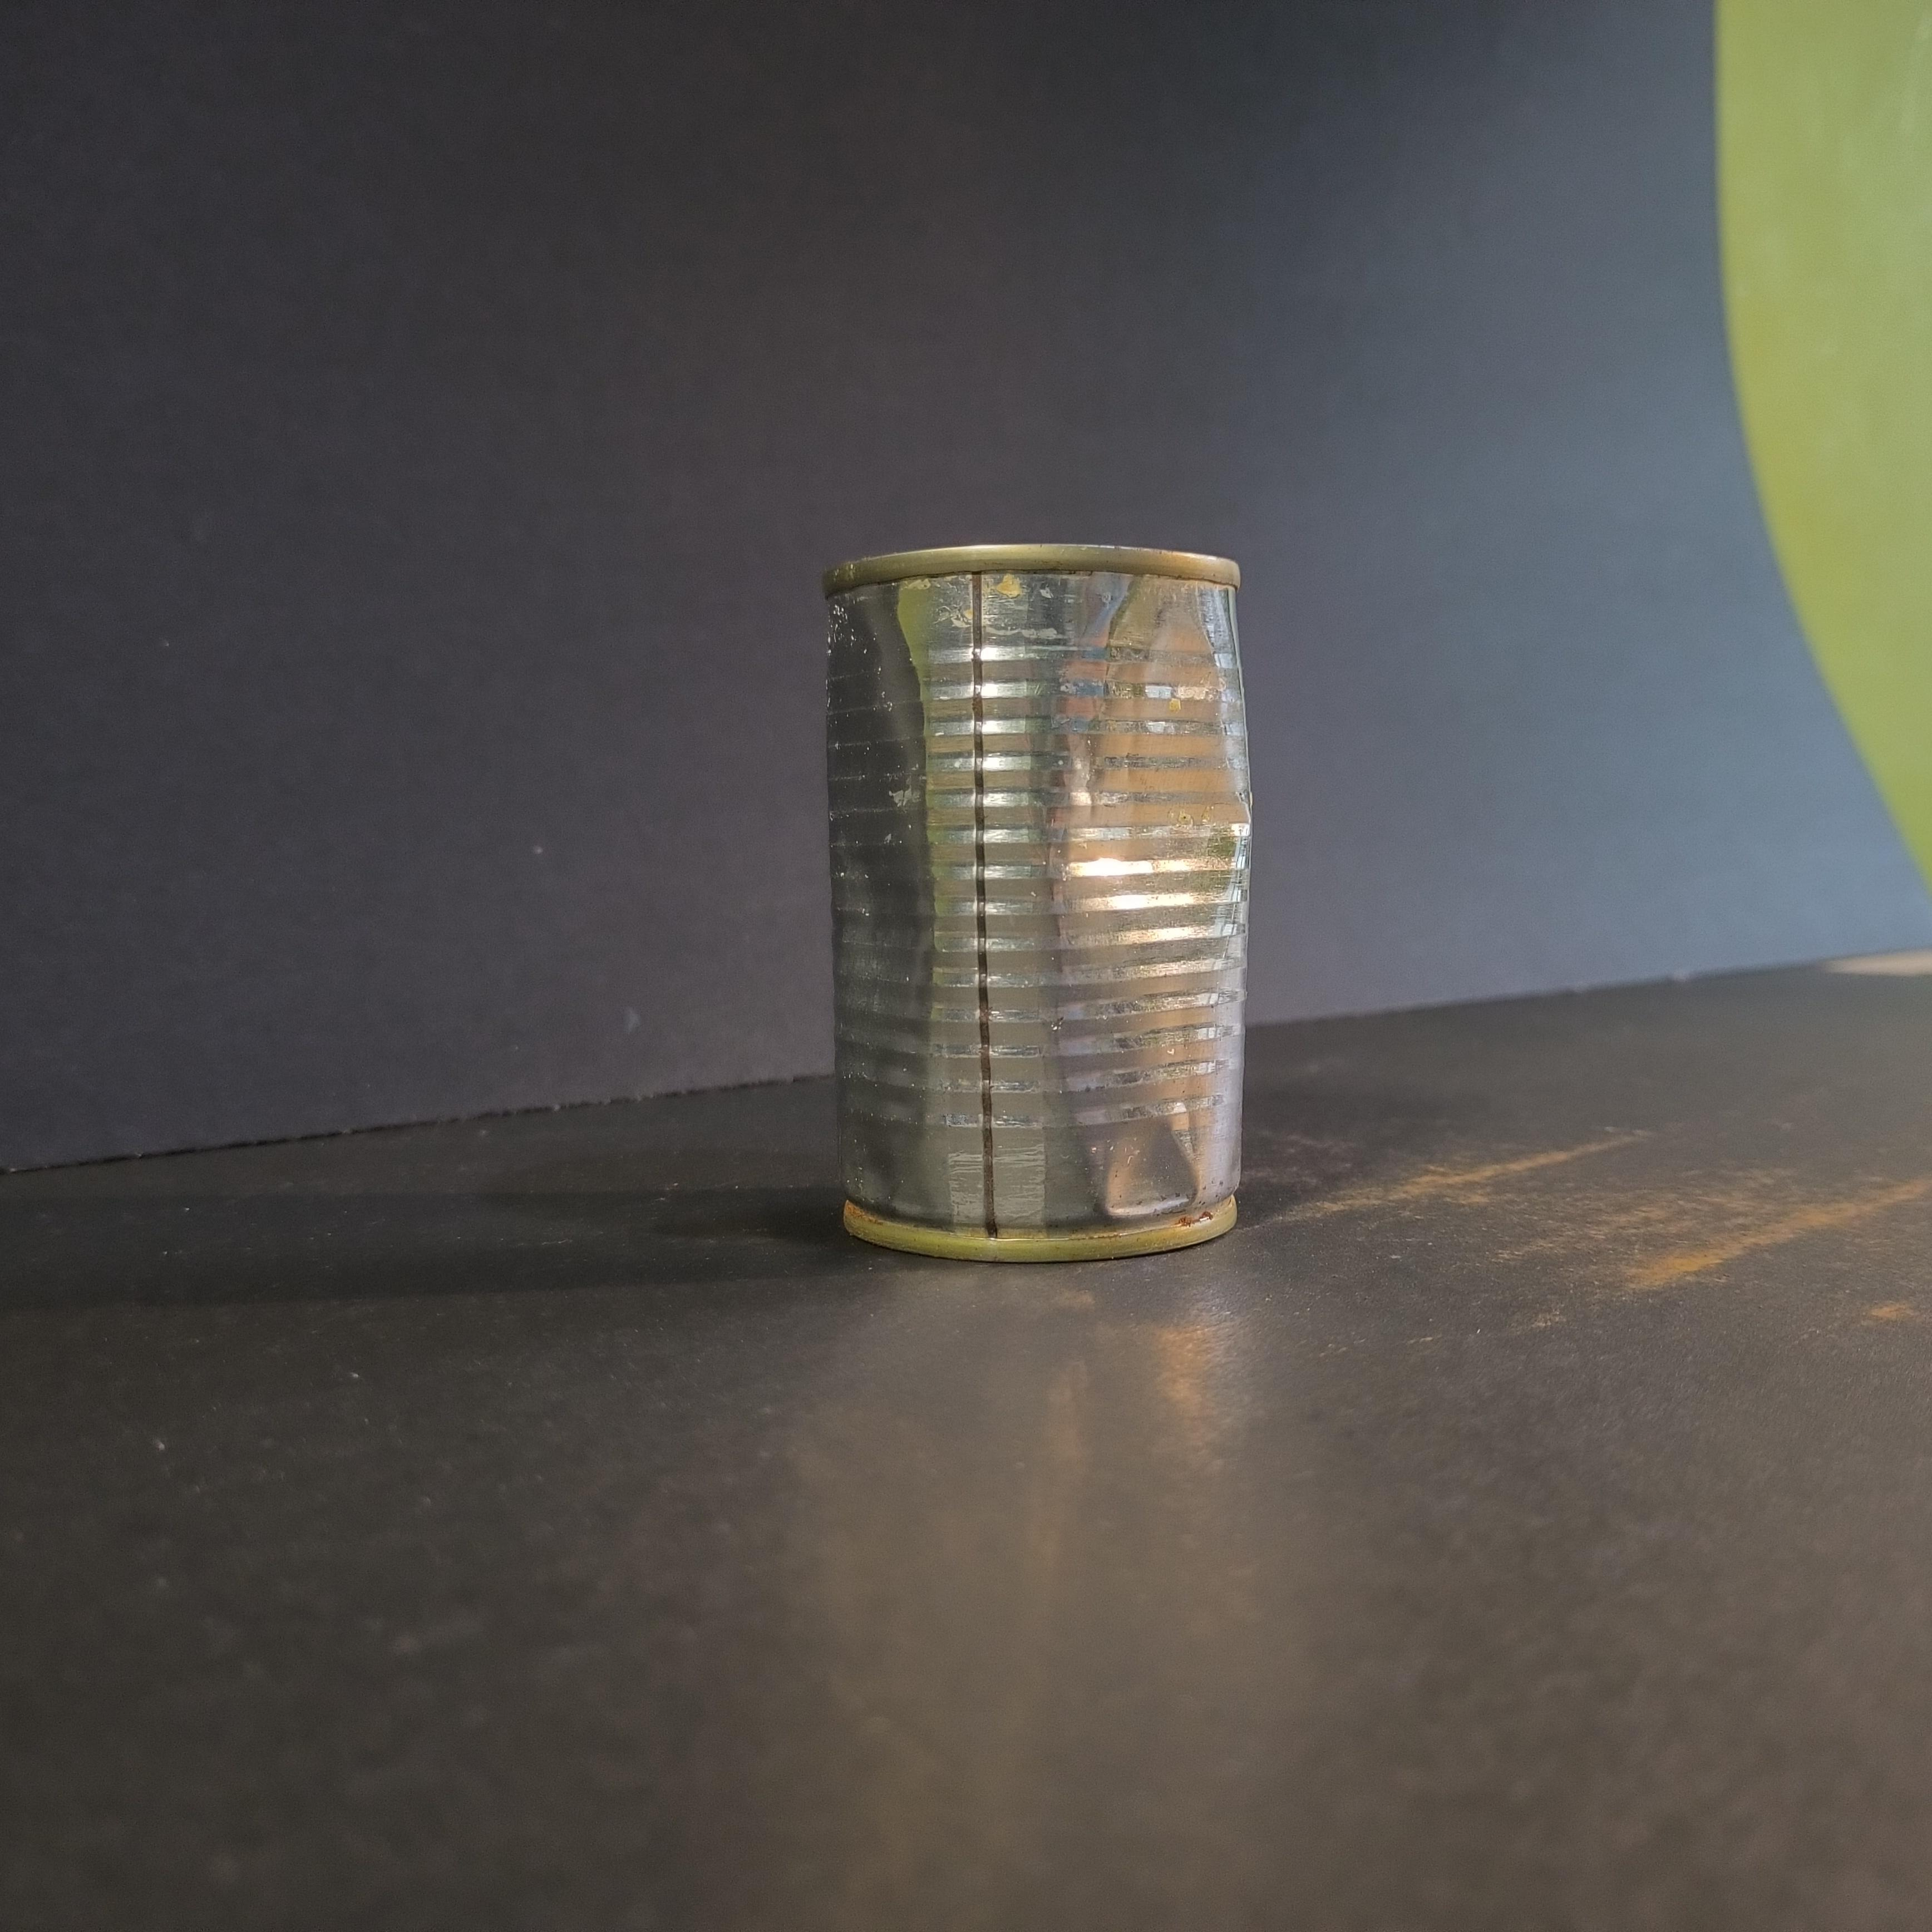Dented: (791, 511, 1267, 1263)
